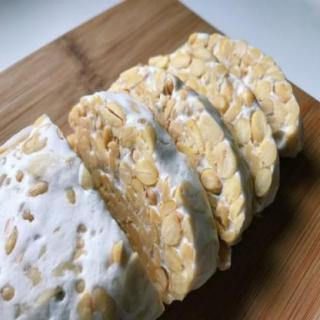Tempe: (1, 30, 306, 320)
